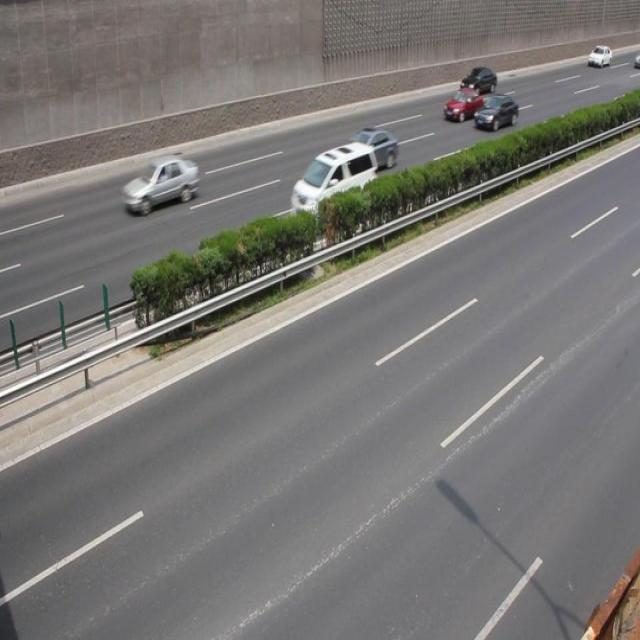car: (289, 142, 377, 235), (121, 156, 198, 215), (336, 127, 397, 176), (472, 93, 518, 131), (443, 88, 483, 122), (458, 66, 497, 96)
